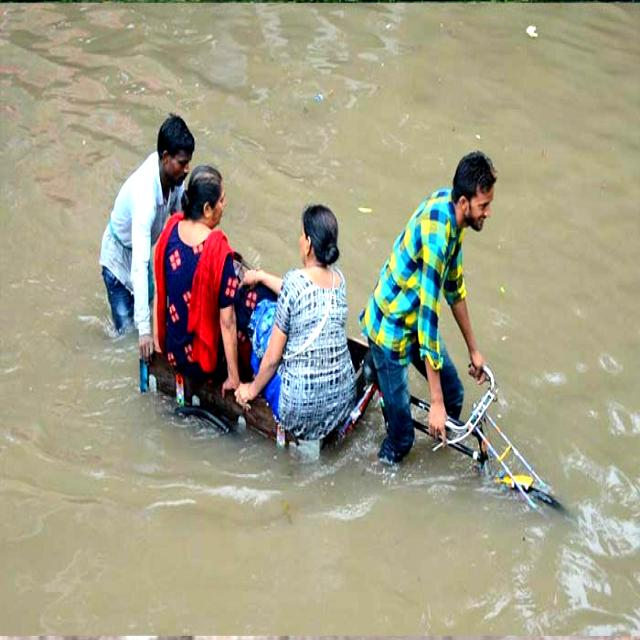civilian: (360, 134, 502, 489), (234, 198, 359, 458), (95, 105, 194, 362), (156, 158, 246, 415)
